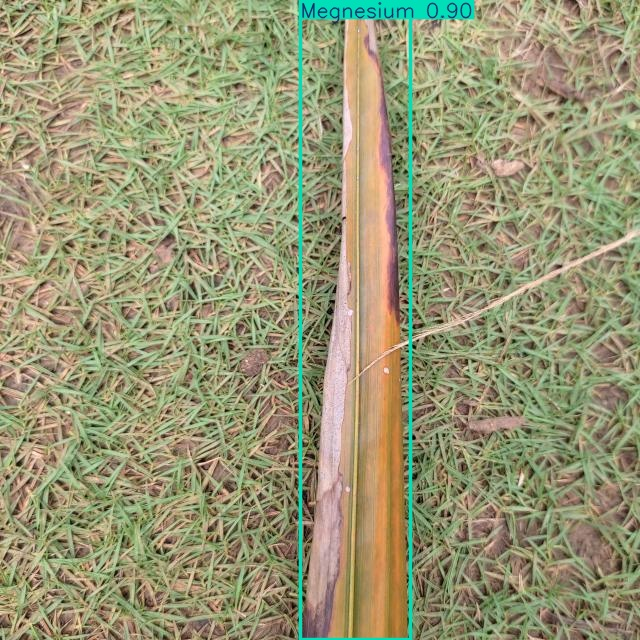Megnesium: (300, 0, 410, 640)
